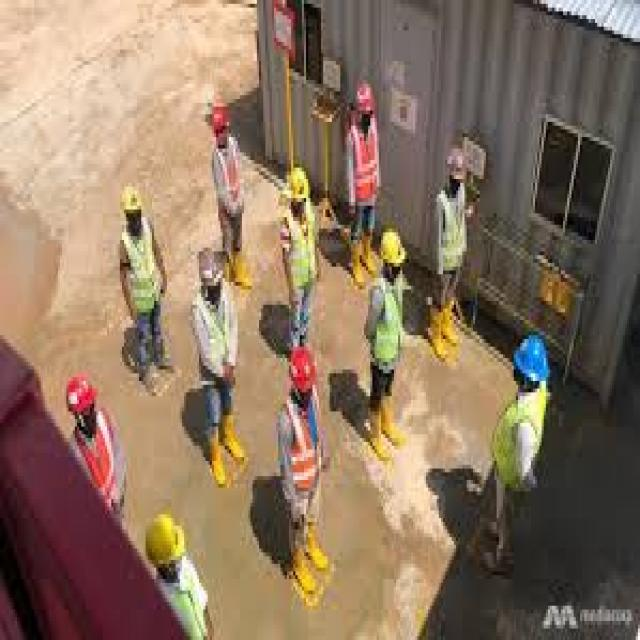Reflective-Jacket: (486, 384, 556, 506), (278, 392, 323, 499), (116, 221, 162, 324), (280, 206, 321, 297), (434, 187, 468, 274), (210, 137, 244, 221), (347, 122, 381, 206)
Safety-Helmet: (142, 507, 190, 579), (508, 328, 554, 396), (64, 366, 103, 423), (287, 339, 319, 396), (204, 88, 234, 133), (379, 225, 409, 270), (118, 179, 148, 221), (443, 141, 469, 183), (353, 76, 377, 118), (289, 164, 312, 206)
